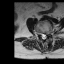CCS_normal: (43, 32, 44, 40)
LFS_normal: (46, 29, 49, 36)
LLS_normal: (45, 32, 46, 39)
RFS_stenosis: (39, 31, 41, 36)
RLS_normal: (41, 32, 43, 40)
